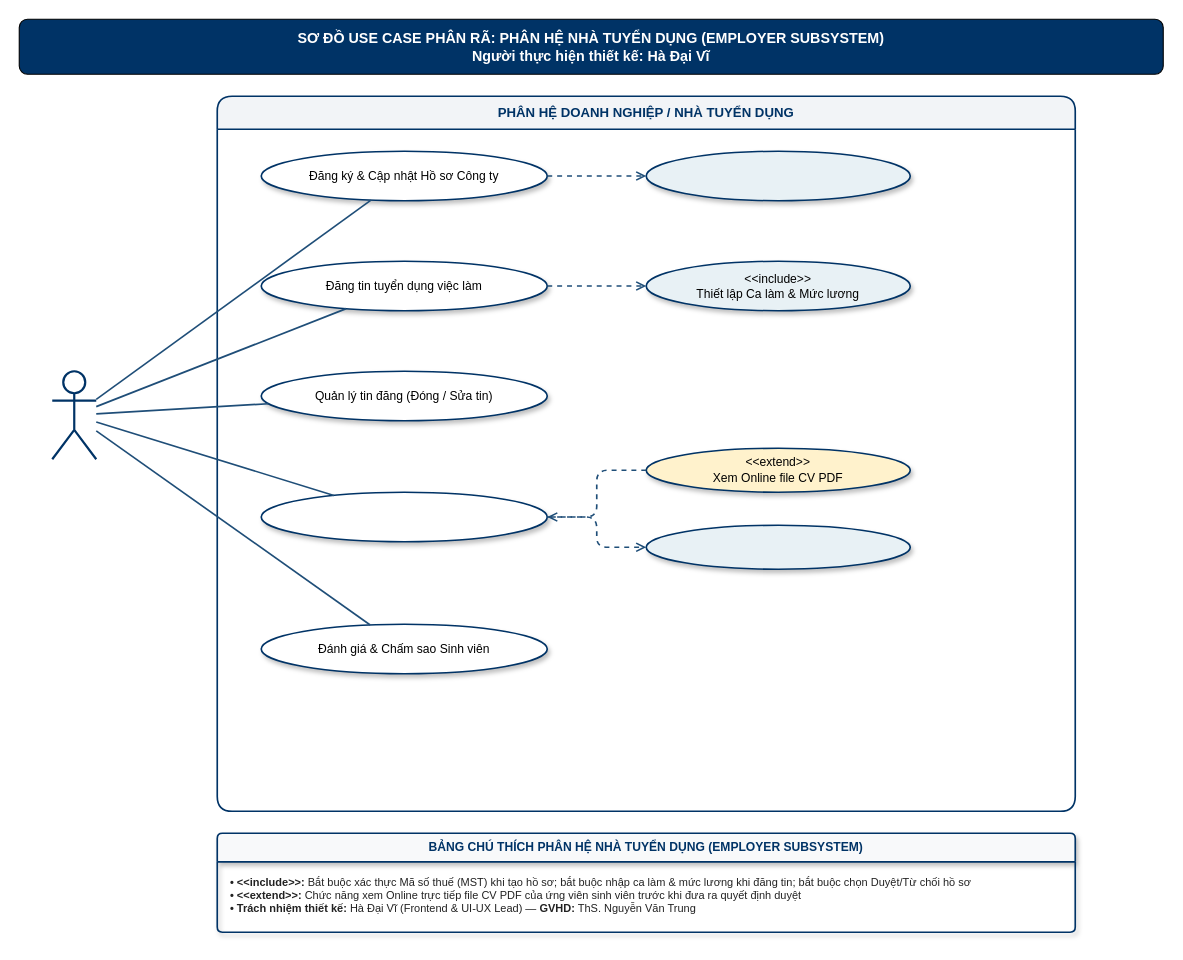
Image size: 1183x960. Some labels were removed from this diagram. The centre of each missing label's shape, as x and y in pixels:
<<include>> Duyệt / Từ chối ứng viên: the point at 779,548
<<include>> Xác thực Mã Số Thuế (MST): the point at 779,177
Nhà tuyển dụng (Employer): the point at 74,415
Quản lý Hồ sơ Ứng viên: the point at 405,518
